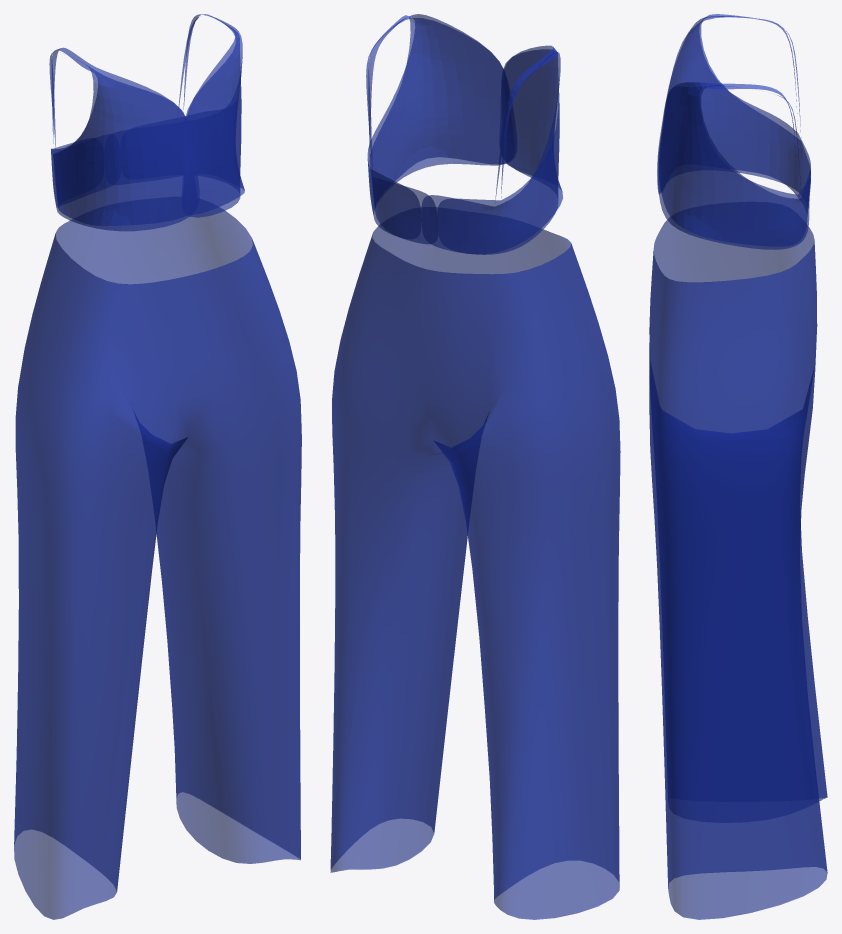
Rendered from WholePajamas.gltf.
The picture shows the model from 3 angles, left to right: view 1: azimuth 30°, elevation 25°; view 2: azimuth 150°, elevation 25°; view 3: azimuth 270°, elevation 25°; orthographic projection. The views are drawn at different scales.
Parts seen in each view (by area): view 1: Pajamas; view 2: Pajamas; view 3: Pajamas.
Part boxes in pixels (x1,y1,x2,y2): Pajamas: (14, 14, 301, 919); Pajamas: (330, 14, 620, 919); Pajamas: (649, 14, 827, 919).
Size of the model in its own units: 1.43 by 4.52 by 0.8995.
